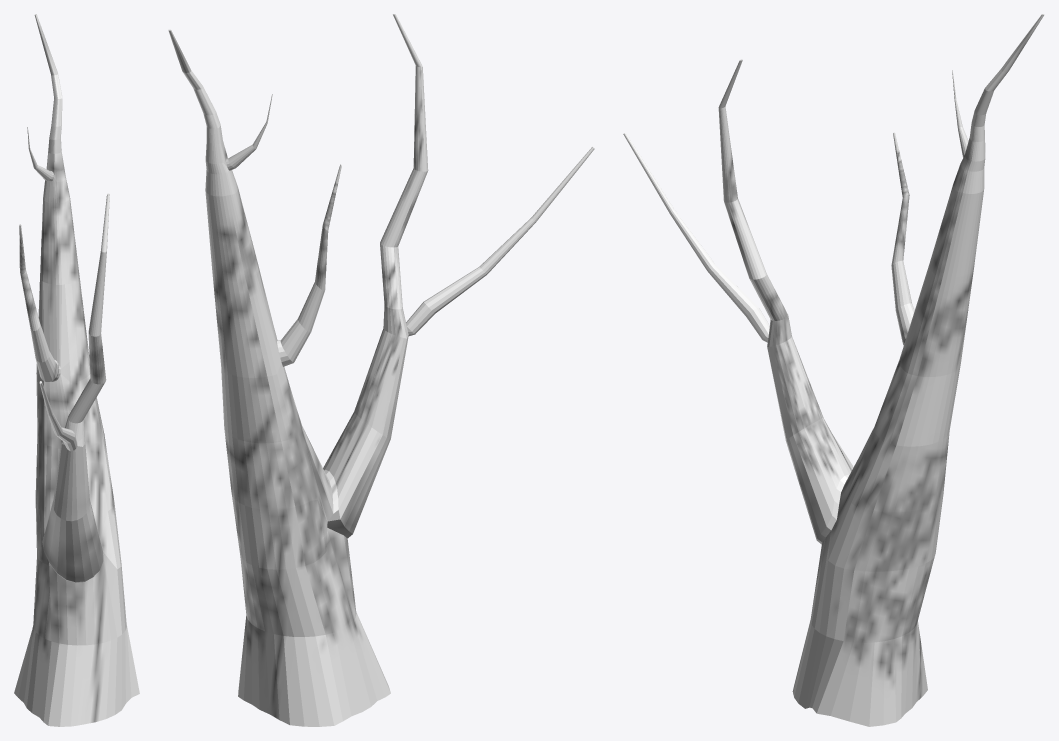
File: Arbol2NoHojas.fbx
3 renders of one model, left to right at view 1: azimuth 30°, elevation 25°; view 2: azimuth 150°, elevation 25°; view 3: azimuth 270°, elevation 25°, orthographic. The views are drawn at different scales.
Visible parts, largest first — view 1: Tallo; view 2: Tallo; view 3: Tallo.
Part boxes in pixels (x1=…): Tallo: x1=14, y1=14, x2=139, y2=726; Tallo: x1=168, y1=14, x2=594, y2=726; Tallo: x1=623, y1=14, x2=1044, y2=726.
Size of the model in its own units: 2.94 by 8.98 by 4.86.
1 material, 1 textured.
